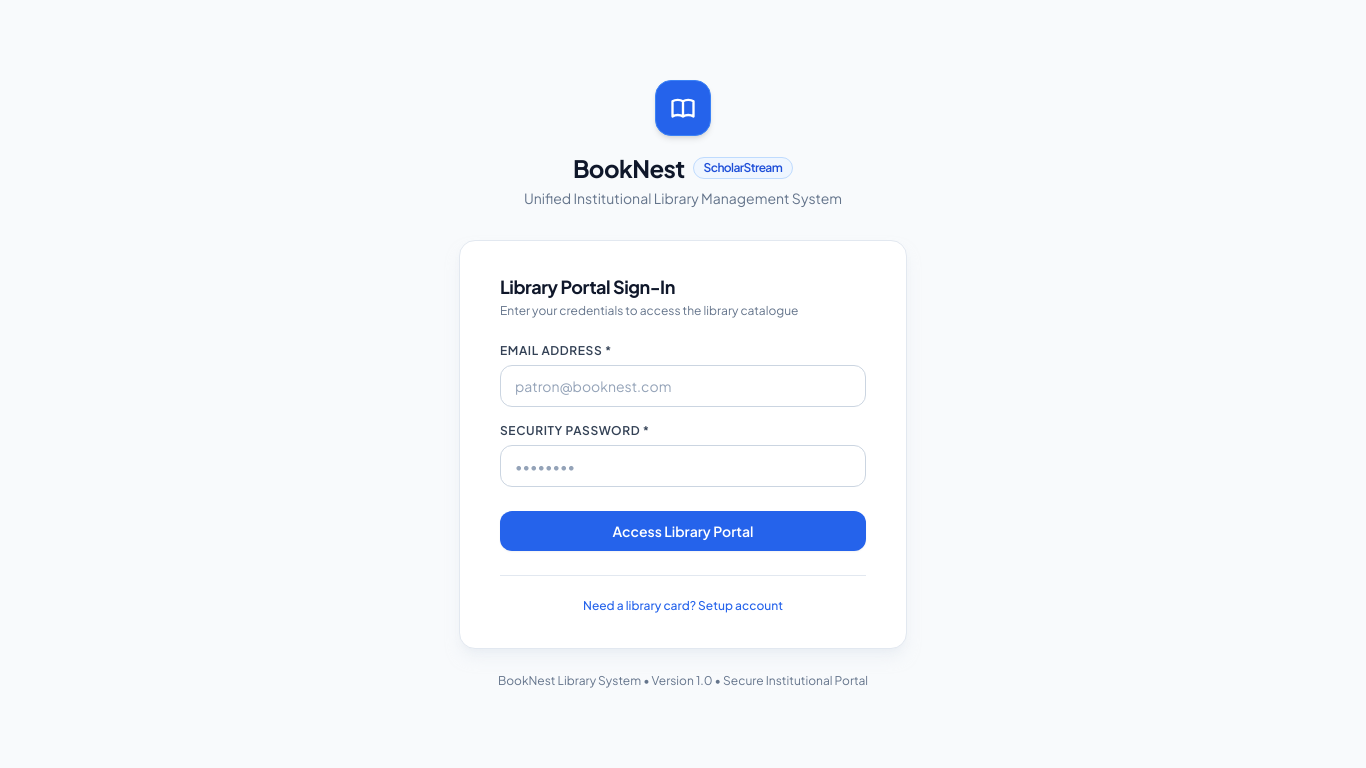
it: BookNest Frontend Consistency & CRUD Enforcement › T26 — Logout check
Type "admin@booknest.com" into the field with placeholder "patron@booknest.com".
click(683, 386); type("admin@booknest.com")  # box x1=500 y1=364 x2=866 y2=406
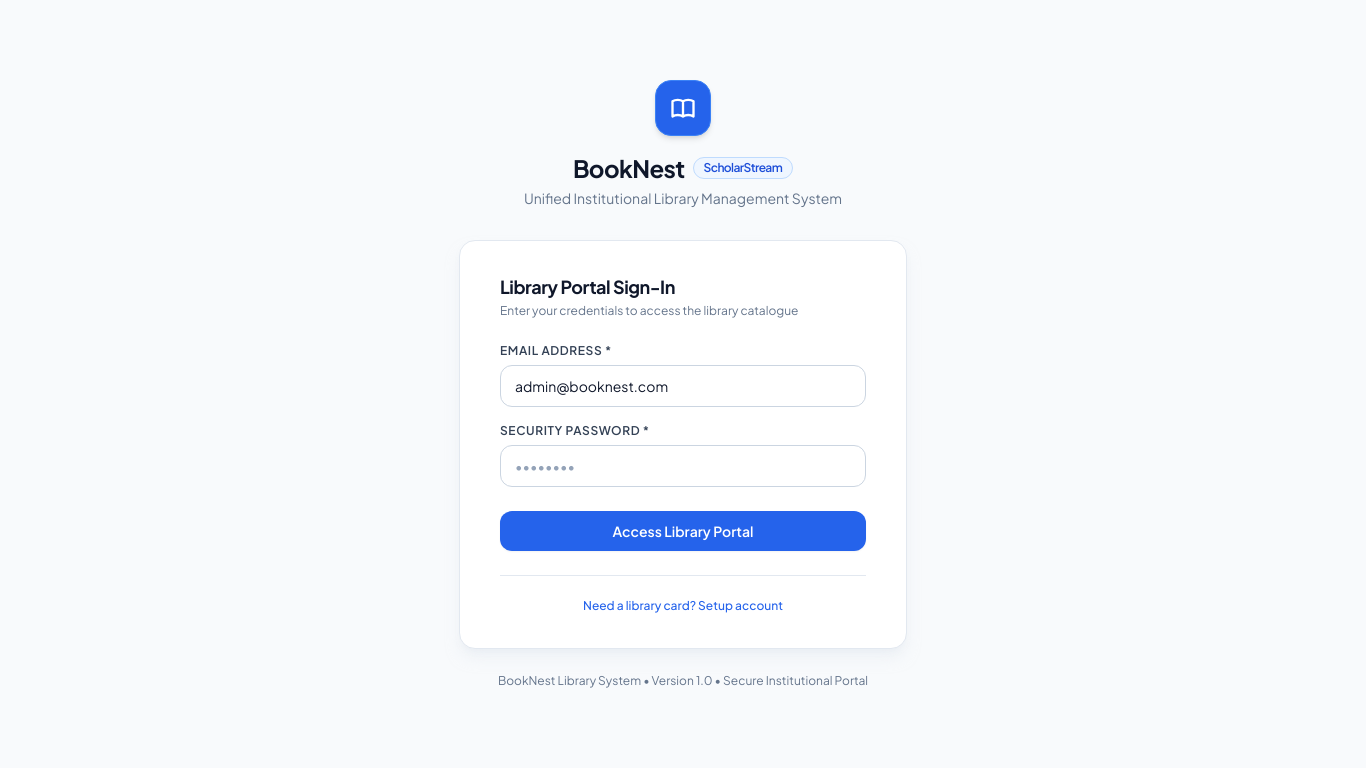
Type "password123" into the password field with placeholder "••••••••".
click(683, 466); type("password123")  # box x1=500 y1=444 x2=866 y2=486
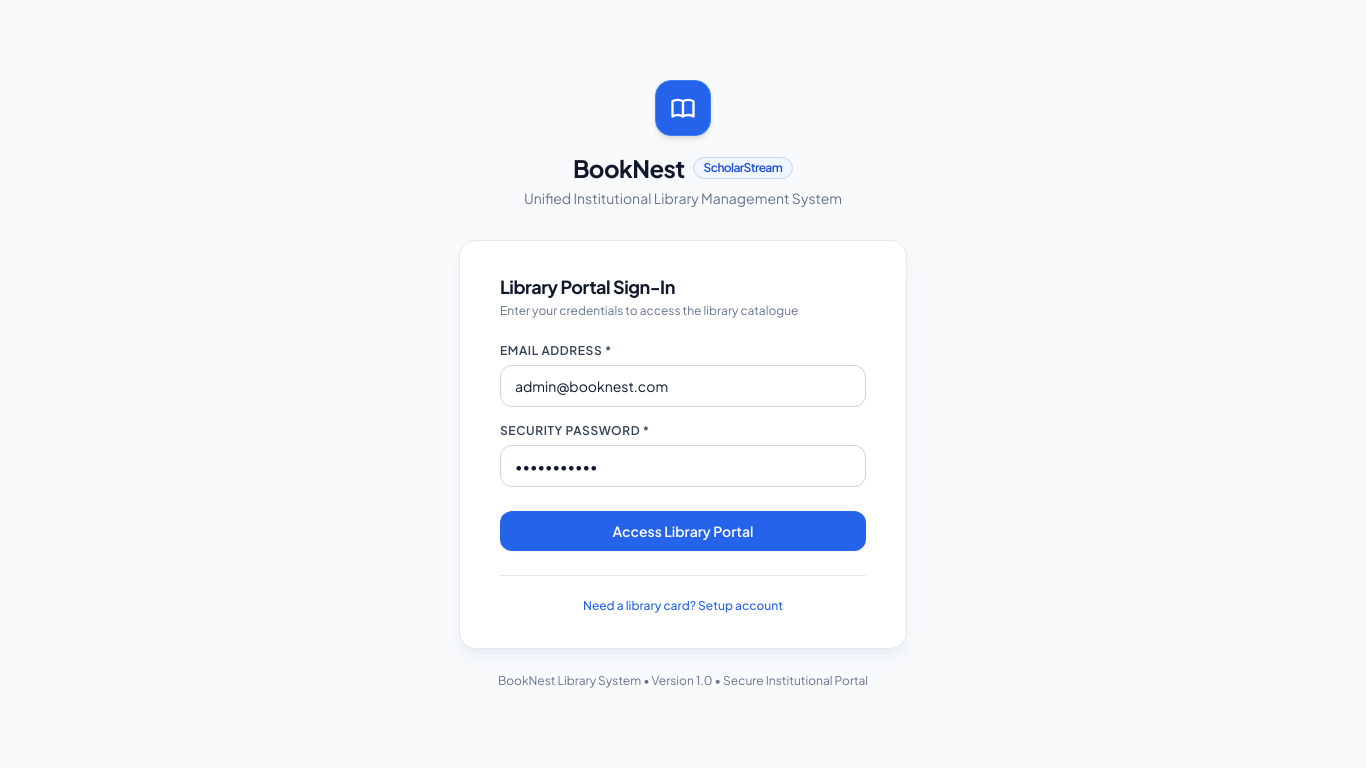
Click the button "Access Library Portal".
click(683, 530)  # box x1=500 y1=510 x2=866 y2=550
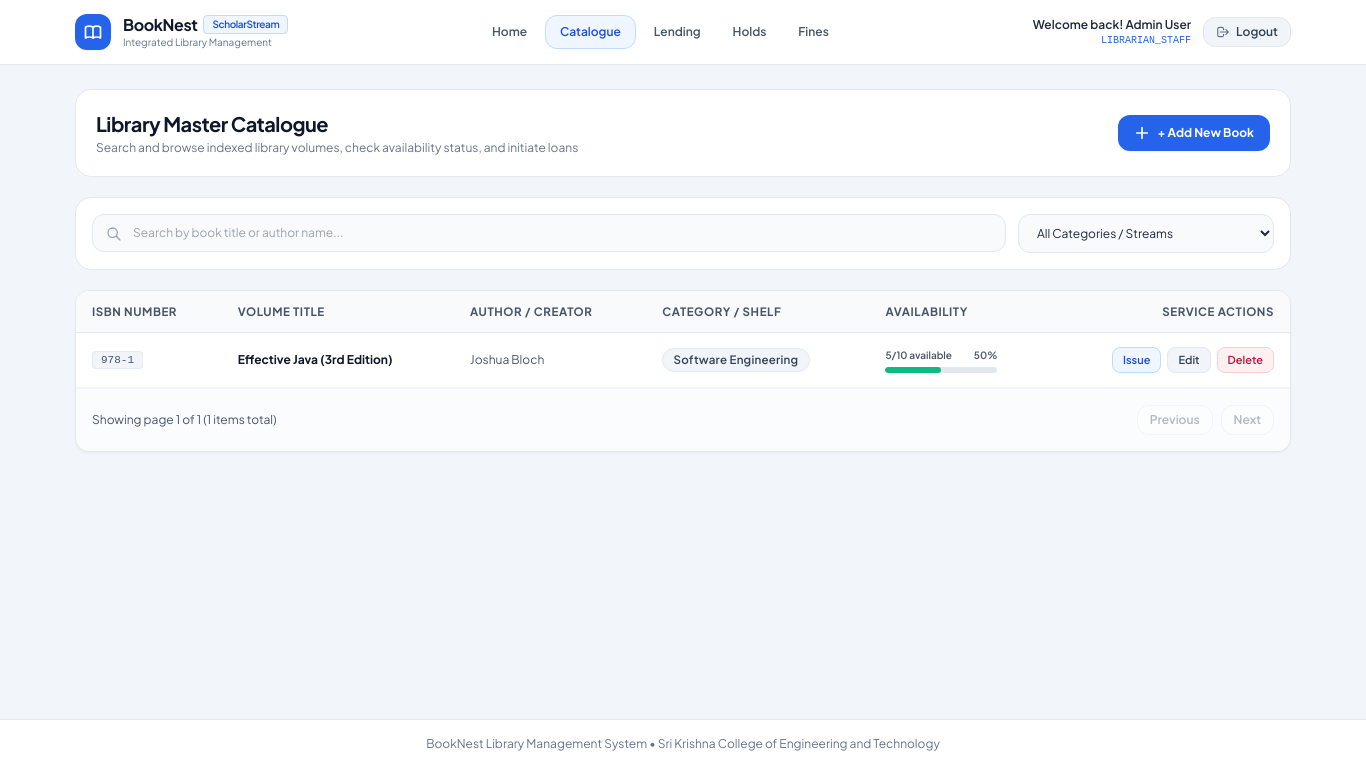
Click the button "Logout".
click(1247, 32)  # box x1=1203 y1=17 x2=1291 y2=47
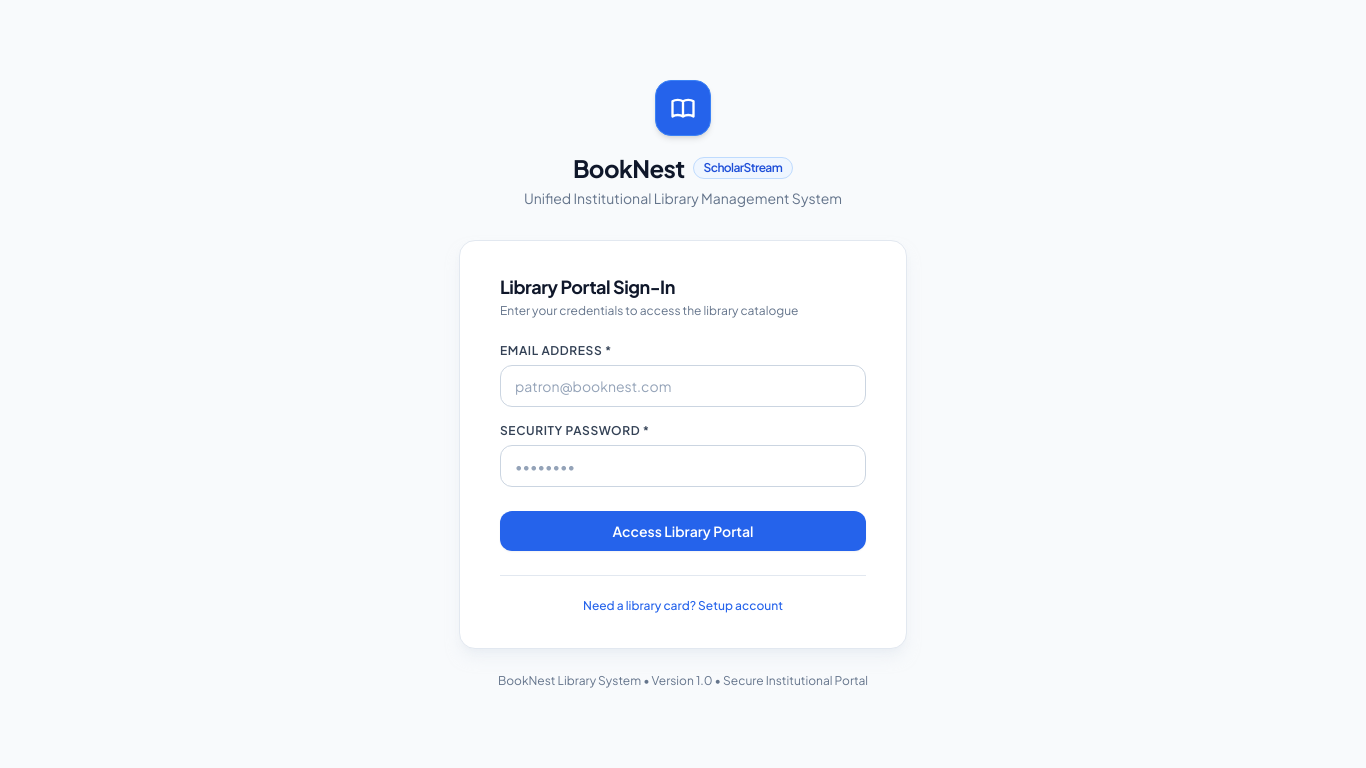
Now the heading "Library Portal Sign-In" is shown, box x1=500 y1=274 x2=675 y2=298
